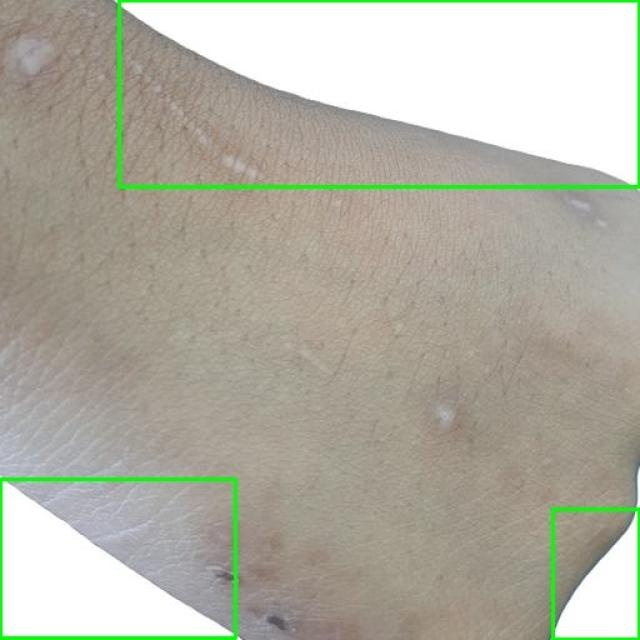Scabies: (119, 0, 639, 186), (0, 480, 236, 639), (552, 509, 639, 639)
